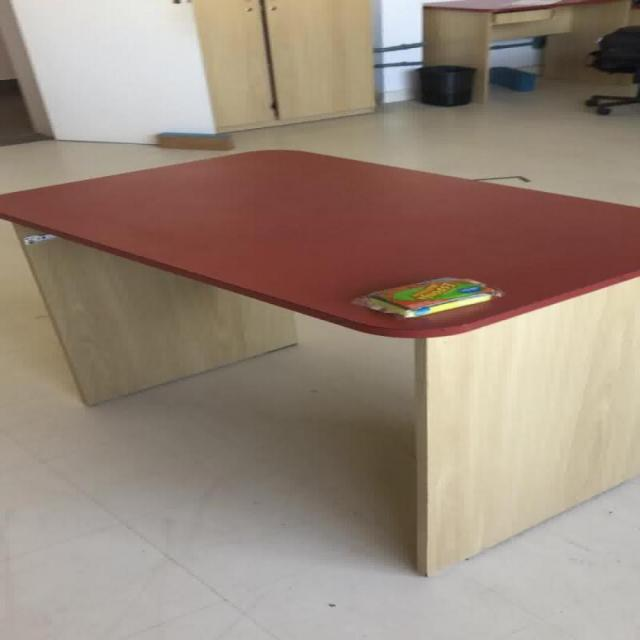Sponge: (351, 276, 501, 318)
